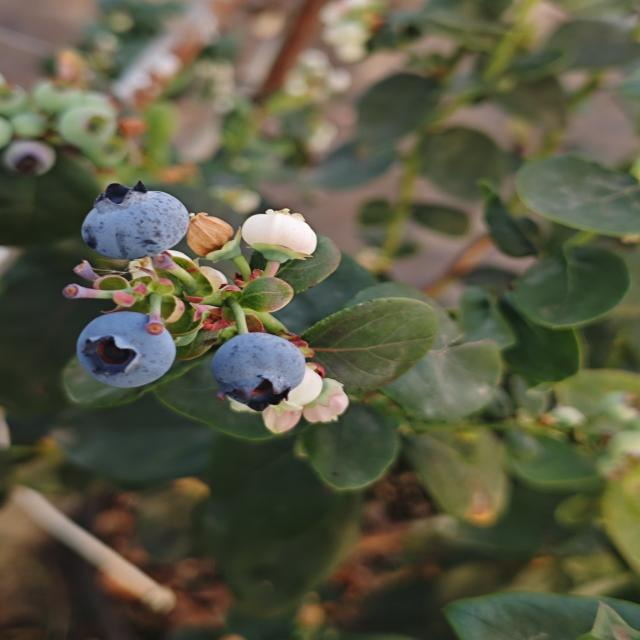ripe: (78, 179, 193, 262), (74, 309, 178, 391), (208, 330, 309, 413)
